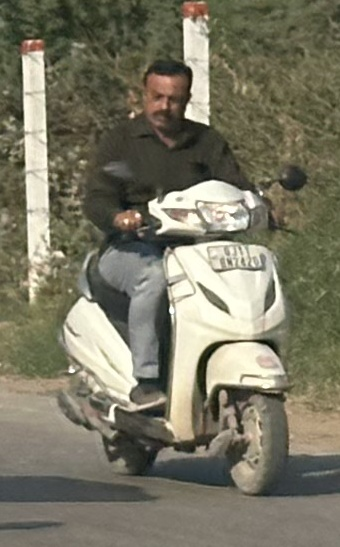BikeWithRider: (44, 51, 314, 499)
NoHelmet: (128, 53, 205, 134)
